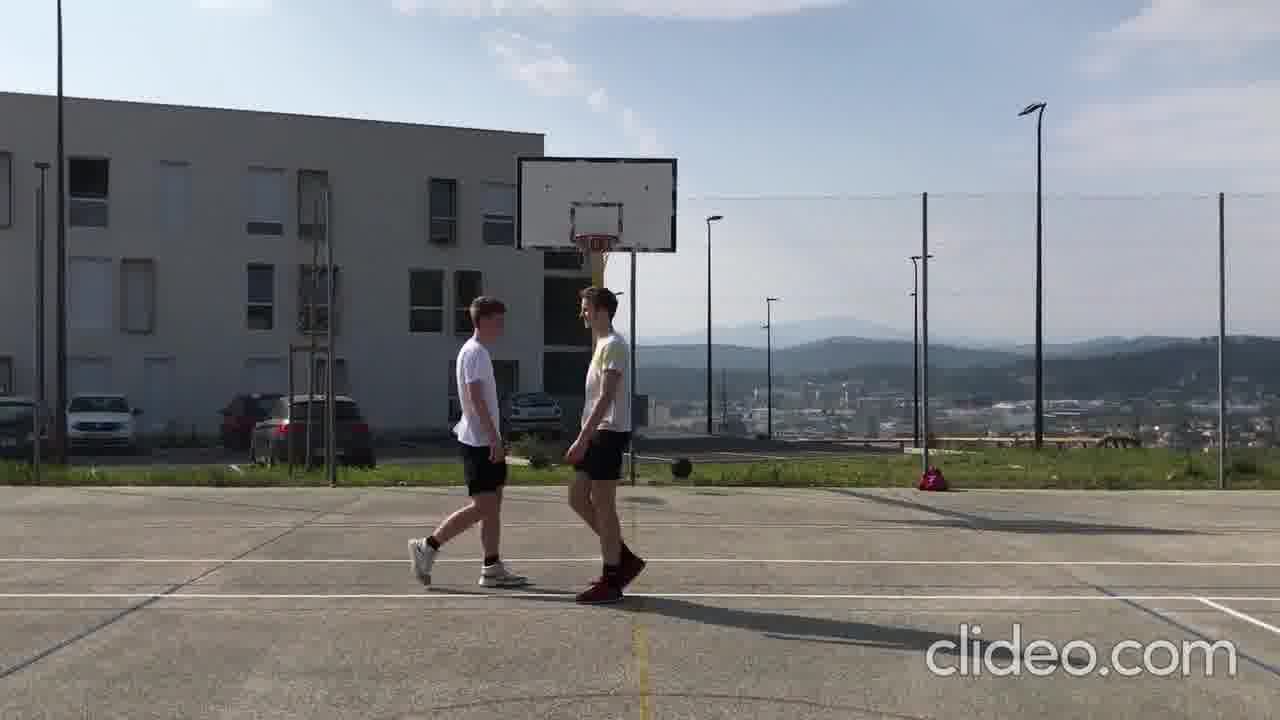jugador: (551, 278, 655, 616)
